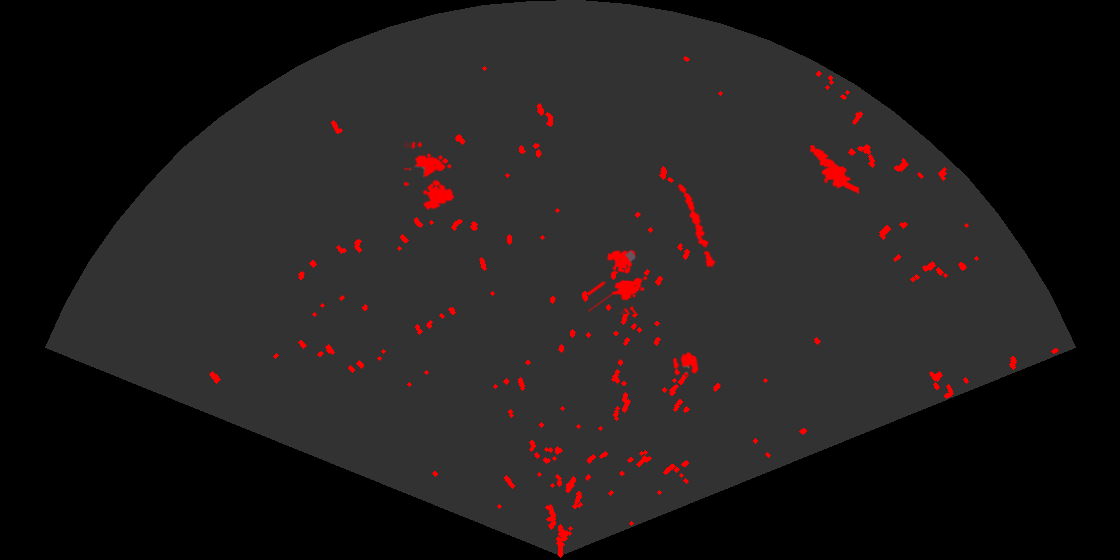ball: (671, 351, 700, 378)
cage: (588, 248, 649, 314), (404, 142, 456, 212)
chain: (676, 182, 717, 270)
frogman: (808, 143, 859, 196)
